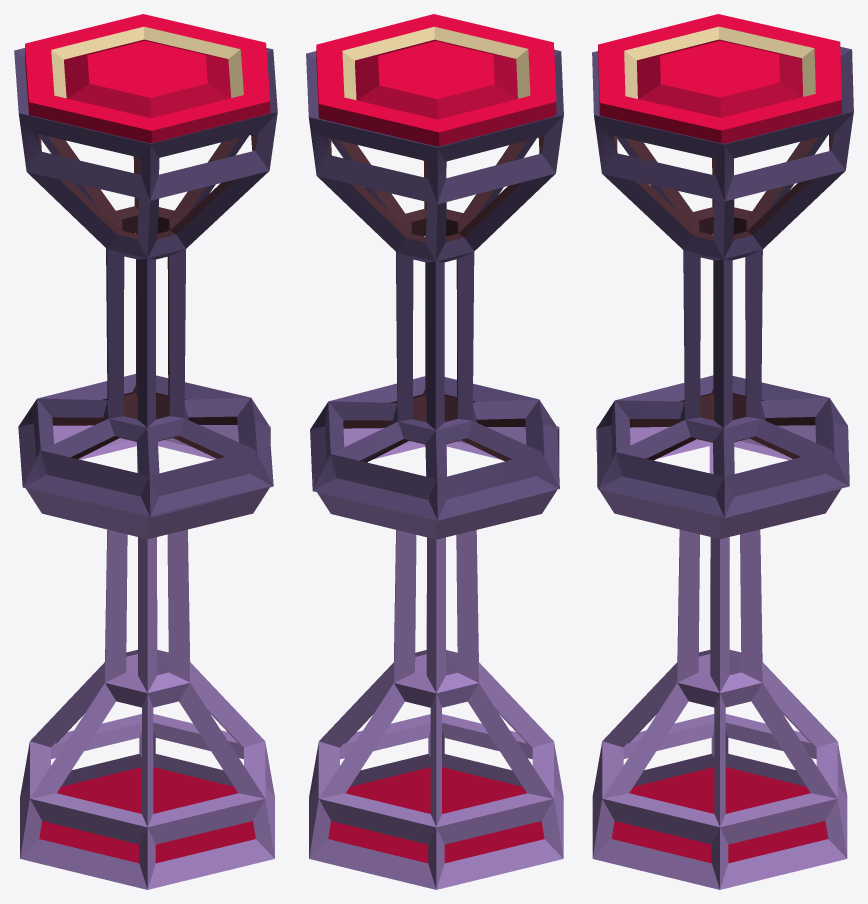
The model's file is chair.glb.
3 renders of one model, left to right at view 1: azimuth 30°, elevation 25°; view 2: azimuth 150°, elevation 25°; view 3: azimuth 270°, elevation 25°, orthographic.
Parts seen in each view (by area): view 1: chair, chair_reflect_mesh; view 2: chair, chair_reflect_mesh; view 3: chair, chair_reflect_mesh.
Part boxes in pixels (left/top/right/bottom): chair: left=14, top=14, right=277, bottom=517; chair_reflect_mesh: left=20, top=425, right=274, bottom=889; chair: left=306, top=14, right=563, bottom=520; chair_reflect_mesh: left=309, top=426, right=563, bottom=889; chair: left=592, top=14, right=853, bottom=518; chair_reflect_mesh: left=592, top=425, right=847, bottom=889.
Bounding box in the file's own units: 0.5618 × 1.59 × 0.4967.
2 materials, 1 textured.
